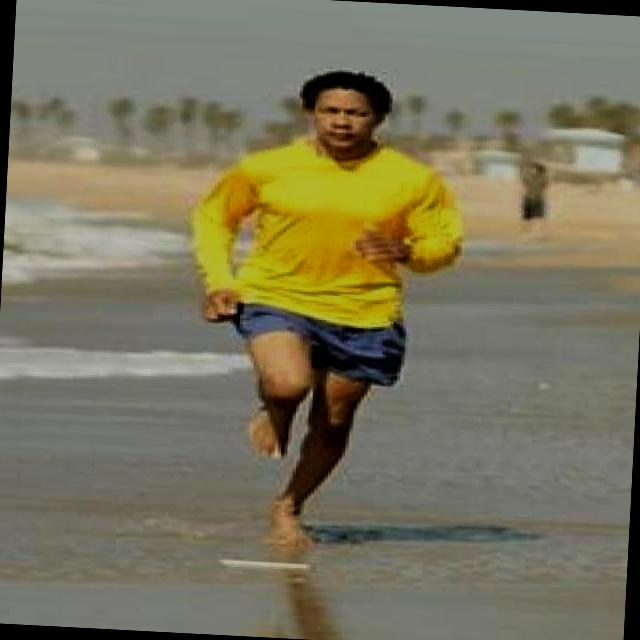no_vest: (208, 122, 451, 332)
